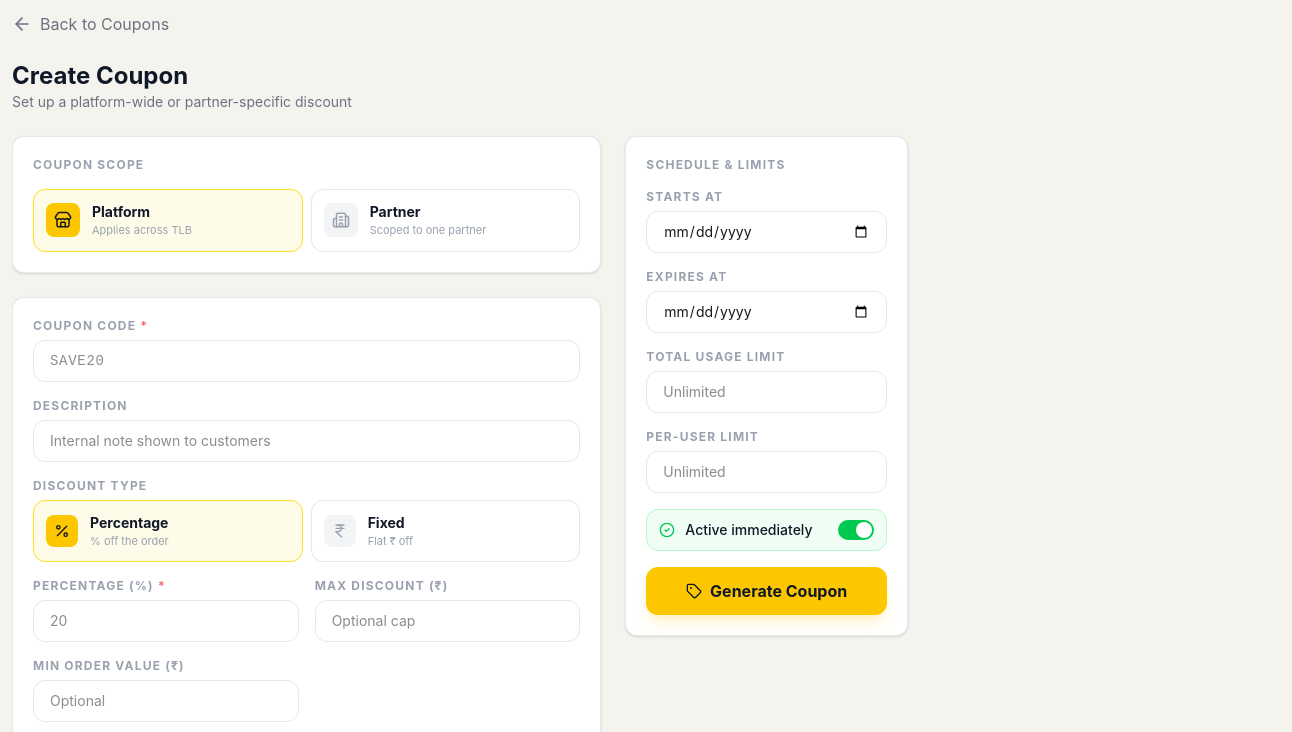
Test: CreateCoupon › requires a partner for a partner coupon
Type "PART" into the field with placeholder "SAVE20" at (307, 360), box [33,340,580,382]
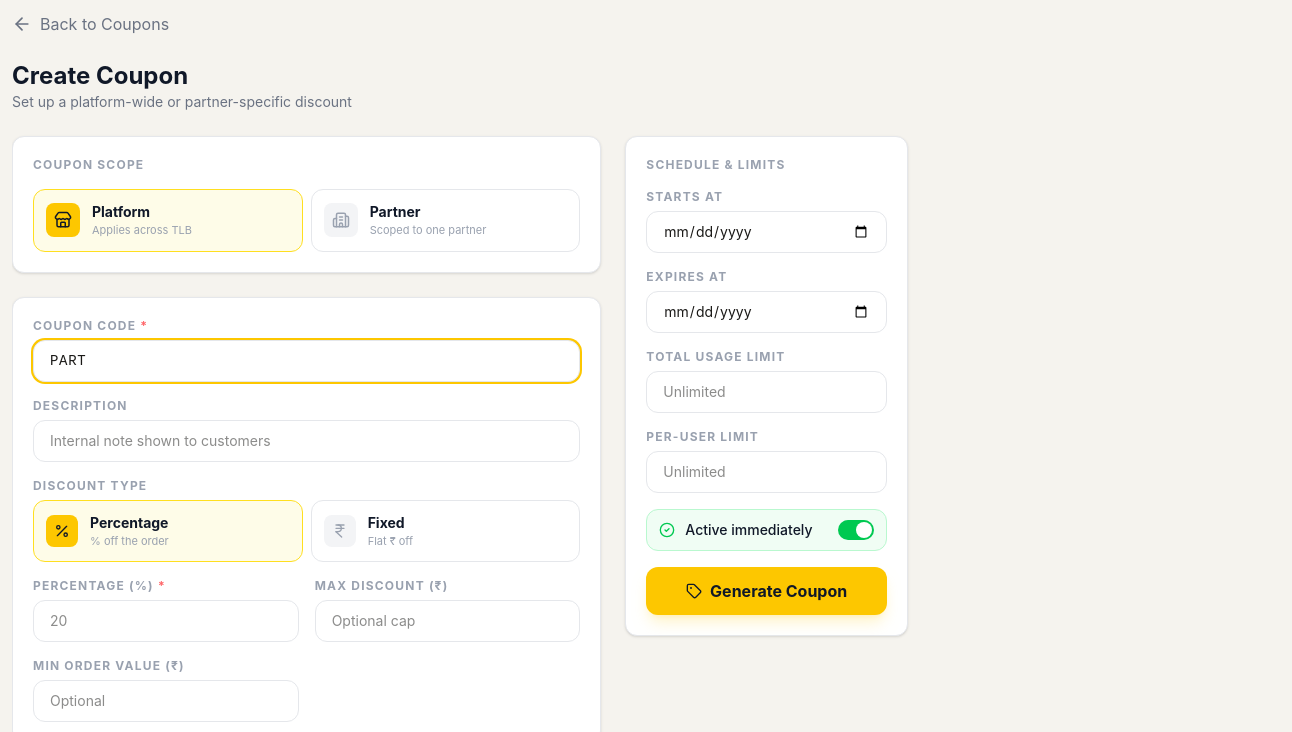
Type "10" into the number field with placeholder "20" at (166, 621), box [33,600,299,642]
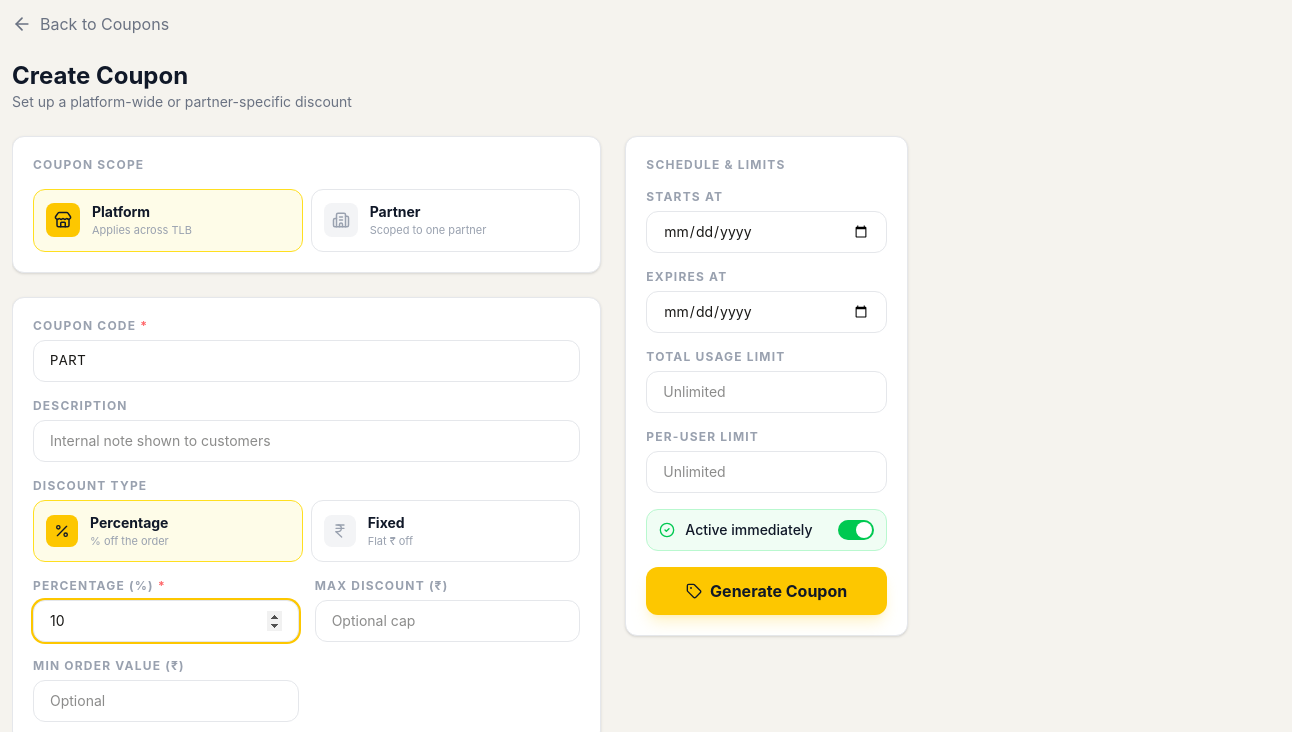
Click the button "Partner Scoped to one partner" at (446, 220), box [311,189,580,252]
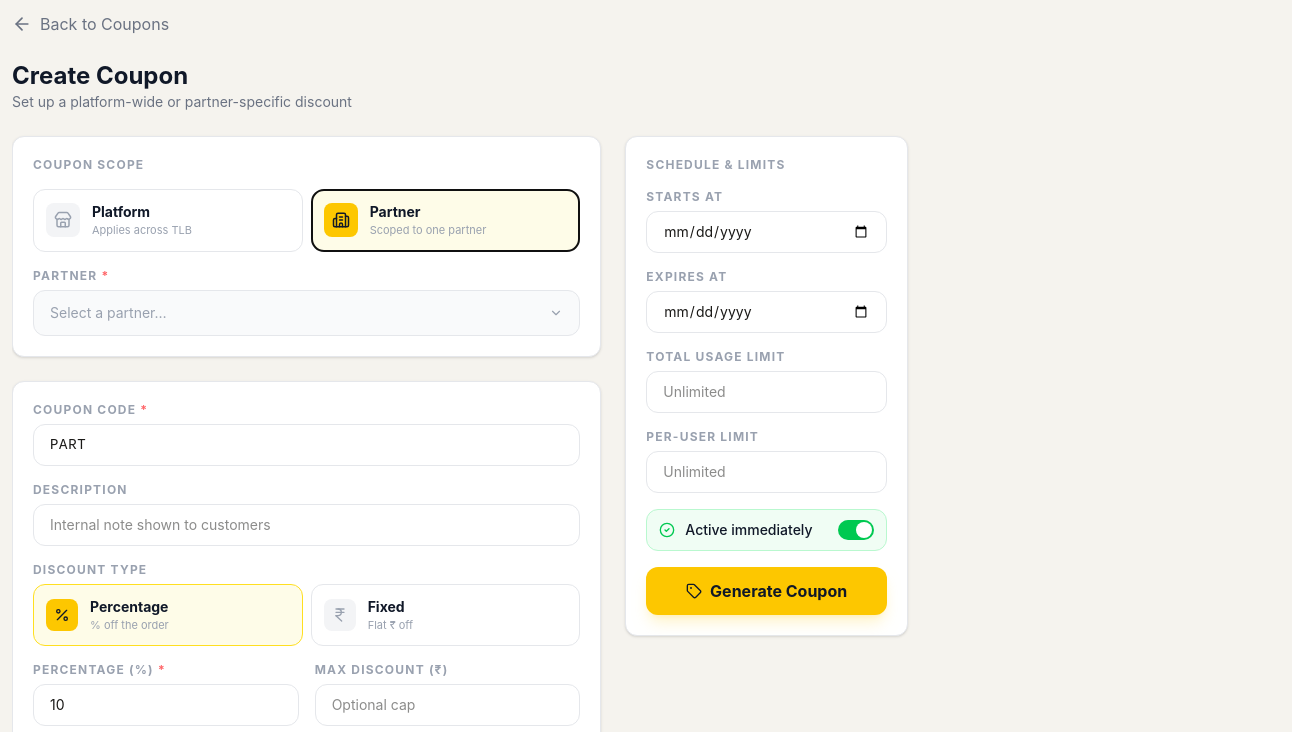
Click the button "Generate Coupon" at (767, 591), box [646,567,887,615]
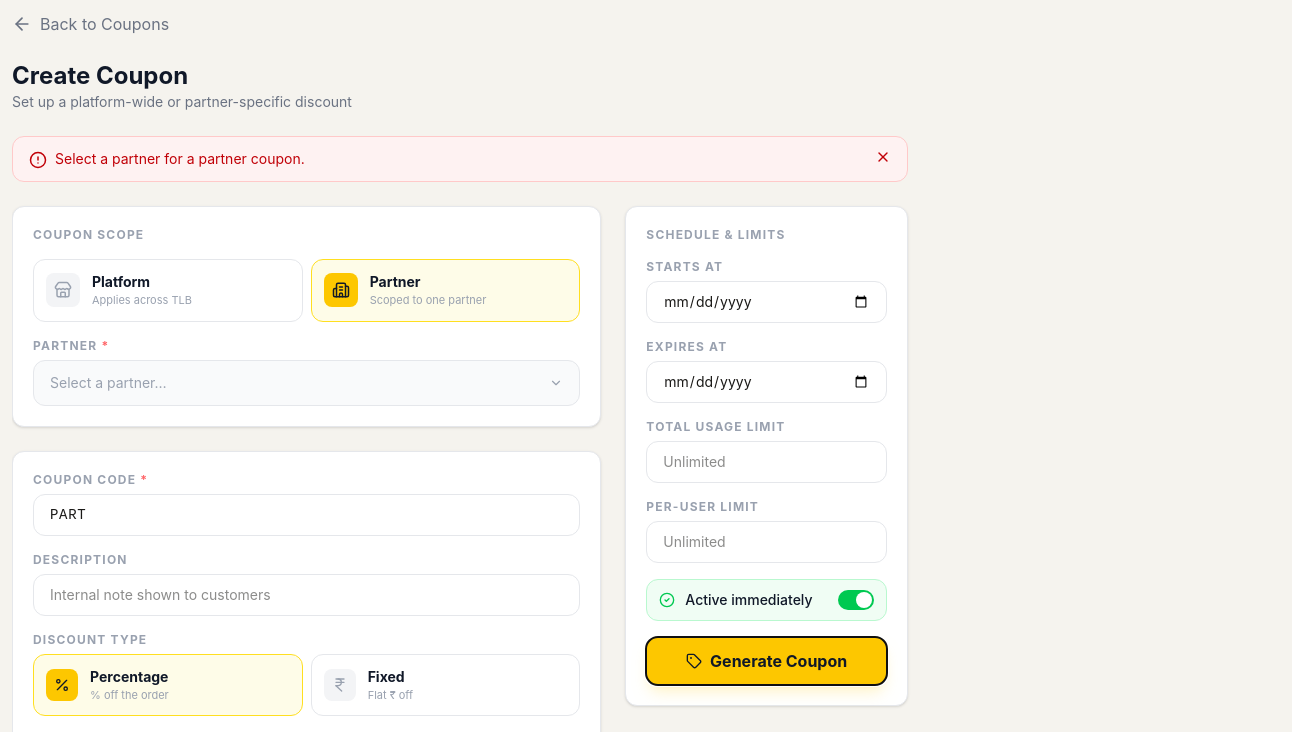
Expected: the text "Select a partner for a partner coupon." is shown, [55,150,305,167]
